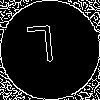L: (25, 25, 57, 73)
